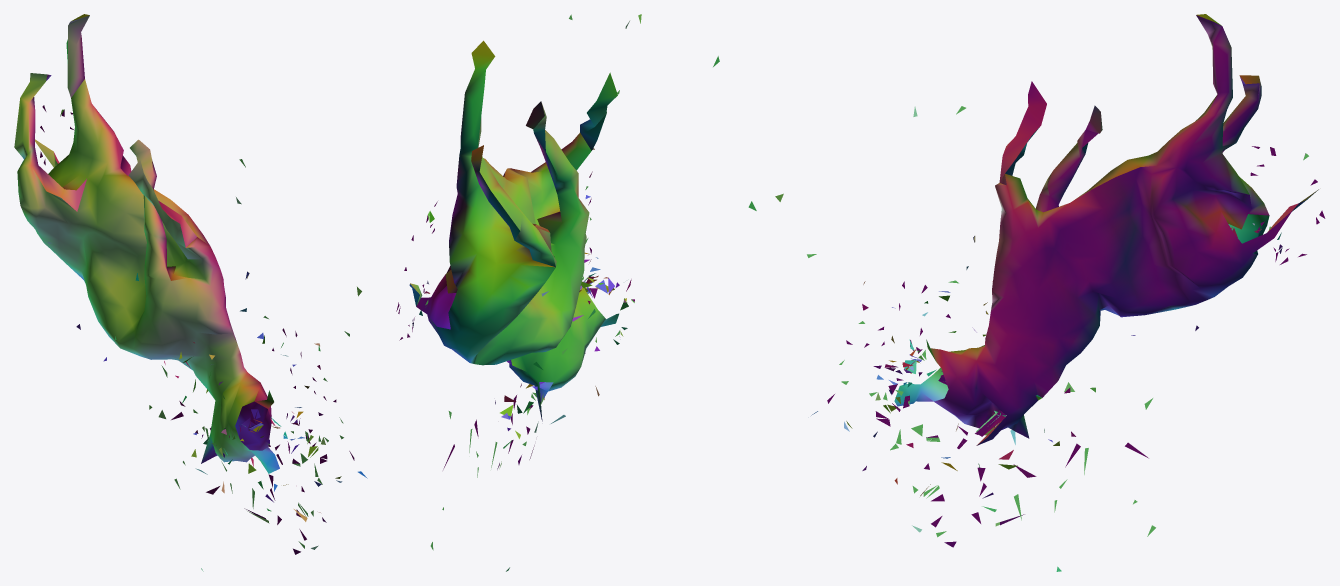
3 views of the same model, side by side, from view 1: azimuth 30°, elevation 25°; view 2: azimuth 150°, elevation 25°; view 3: azimuth 270°, elevation 25° (orthographic). The views are drawn at different scales.
Parts seen in each view (by area): view 1: anim_5_5_neg5; view 2: anim_5_5_neg5; view 3: anim_5_5_neg5.
Part boxes in pixels (box(x1,y1,x2,y2)): anim_5_5_neg5: box(14, 14, 367, 571); anim_5_5_neg5: box(396, 14, 719, 571); anim_5_5_neg5: box(748, 14, 1325, 571).
Bounding box in the file's own units: 0.158 × 0.5 × 0.4898.
